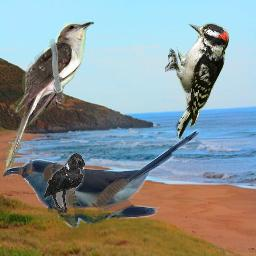Crow: (44, 153, 85, 213)
Cuckoo: (3, 128, 205, 229), (6, 21, 94, 168)
Woodpecker: (165, 21, 229, 139)
